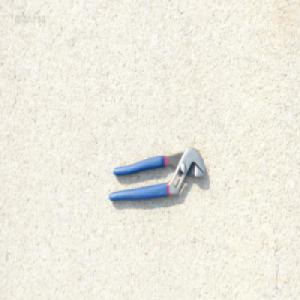Pliers: (107, 146, 206, 202)
